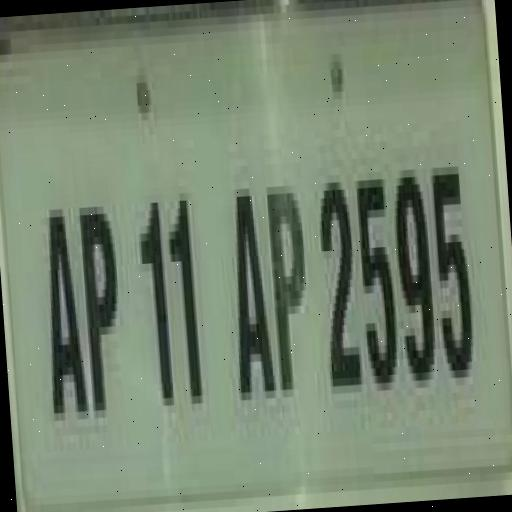number plate: (0, 0, 494, 491)
